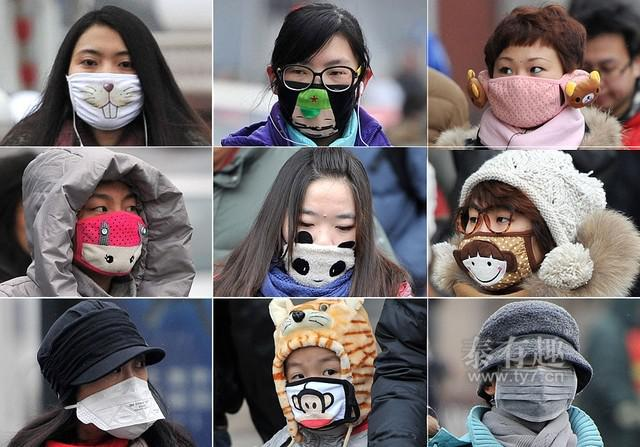NONE: (582, 54, 630, 111)
OK: (456, 197, 544, 285), (495, 341, 580, 424), (68, 46, 150, 128), (84, 346, 153, 435), (276, 54, 354, 132), (75, 190, 146, 273), (482, 53, 558, 129), (283, 353, 347, 427)
WRONG: (281, 197, 360, 282)
